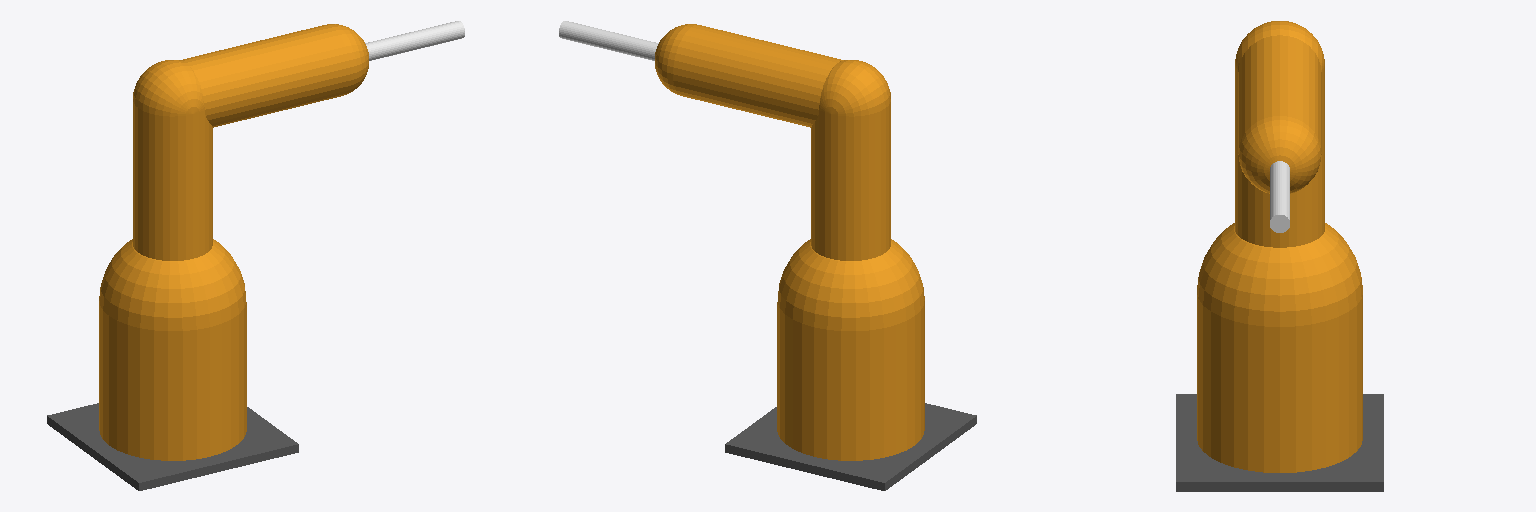
robot.urdf — linkage:
<robot name = "linkage">
	<!-- links section -->>
	<link name = "link 0">
		<visual>
			<origin xyz = "0 0 0" />
			<geometry>
				<box size = "10 10 0.5"  />
			</geometry>
			<material name = "gray A">
				<color rgba = "0.4 0.4 0.4 0.2" />
			</material>
		</visual>
	</link>
	<link name = "link 1">
		<visual>
			<origin xyz = "0 0 4" rpy = "0 0 0"/>
			<geometry>
				<cylinder radius = "4.0" length = "8"  />
			</geometry>
			<material name = "orange">
				<color rgba = "0.93 0.64 0.18 1" />
			</material>
		</visual>
		<visual>
			<origin xyz = "0 0 8" rpy = "0 0 0"/>
			<geometry>
				<sphere radius = "4" />
			</geometry>
			<material name = "orange">
				<color rgba = "0.93 0.64 0.18 1" />
			</material>
		</visual>
	</link>
	<link name = "link 2">
		<visual>
			<origin xyz = "0 -5 0" rpy = "1.5708 0 0"/>
			<geometry>
				<cylinder radius = "2.171" length = "10"  />
			</geometry>
			<material name = "orange">
				<color rgba = "0.93 0.64 0.18 1" />
			</material>
		</visual>
		<visual>
			<origin xyz = "0 -10 0" rpy = "0 0 0"/>
			<geometry>
				<sphere radius = "2.171" />
			</geometry>
			<material name = "orange">
				<color rgba = "0.93 0.64 0.18 1" />
			</material>
		</visual>
	</link>
	<link name = "link 3">
		<visual>
			<origin xyz = "0 5 0" rpy = "1.5708 0 0"/>
			<geometry>
				<cylinder radius = "2" length = "10"  />
			</geometry>
			<material name = "orange">
				<color rgba = "0.93 0.64 0.18 1" />
			</material>
		</visual>
	</link>
	<link name = "link 4">
		<visual>
			<origin xyz = "0 0 0" rpy = "0 1.5708 0"/>
			<geometry>
				<sphere radius = "2" />
			</geometry>
			<material name = "orange">
				<color rgba = "0.93 0.64 0.18 1" />
			</material>
		</visual>
	</link>
	<link name = "link 5">
		<visual>
			<origin xyz = "0 0 -4" rpy = "0 0 0"/>
			<geometry>
				<cylinder radius = "0.5" length = "8"  />
			</geometry>
			<material name = "gray A">
				<color rgba = "0.92 0.92 0.92 1" />
			</material>
		</visual>
	</link>


	<!-- joints section -->>
	<joint name = "joint 1" type = "revolute">
		<parent link = "link 0" />
		<child link = "link 1" />
		<origin xyz = "0 0 0" rpy = "0 0 0"/>
		<axis xyz = "0 0 1" />
		<limit effort="1000.0" lower="-3.1416" upper="3.1416" velocity="0.5"/>
	</joint>
	<joint name = "joint 2" type = "revolute">
		<parent link = "link 1" />
		<child link = "link 2" />
		<origin xyz = "0 0 10" rpy = "-1.5708 0 0"/>
		<axis xyz = "0 0 1" />
		<limit effort="1000.0" lower="0" upper="0.7854" velocity="0.5"/>
	</joint>
	<joint name = "joint 3" type = "revolute">
		<parent link = "link 2" />
		<child link = "link 3" />
		<origin xyz = "0 -10 0" rpy = "0 0 -1.5708"/>
		<axis xyz = "0 0 1" />
		<limit effort="1000.0" lower="-1.5708" upper="0.5236" velocity="0.5"/>
	</joint>
	<joint name = "joint 4" type = "revolute">
		<parent link = "link 3" />
		<child link = "link 4" />
		<origin xyz = "0 10 0" rpy = "0 0 1.5708"/>
		<axis xyz = "0 0 1" />
		<limit effort="1000.0" lower="-0.7854" upper="0.7854" velocity="0.5"/>
	</joint>
	<joint name = "joint 5" type = "revolute">
		<parent link = "link 4" />
		<child link = "link 5" />
		<origin xyz = "8 0 0" rpy = "1.5708 0 1.5708"/>
		<axis xyz = "0 0 1" />
		<limit effort="1000.0" lower="-1.3090" upper="1.3090" velocity="0.5"/>
	</joint>
</robot>

--- Render facts (derived) ---
3 views of the same robot in one strip: view 1: azimuth 30°, elevation 25°; view 2: azimuth 150°, elevation 25°; view 3: azimuth 270°, elevation 25° (orthographic).
Robot: linkage — 6 links, 5 joints (5 revolute); root link link 0; default pose: all joints at 0.
Visible links, largest first — view 1: link 1, link 2, link 3, link 0, link 5, link 4; view 2: link 1, link 2, link 3, link 0, link 5, link 4; view 3: link 1, link 0, link 3, link 2, link 4, link 5.
Link boxes in pixels (<box>): link 1: <box>99,239,246,460</box>; link 2: <box>133,60,212,260</box>; link 3: <box>180,25,350,127</box>; link 0: <box>47,403,298,490</box>; link 5: <box>365,21,464,60</box>; link 4: <box>327,24,368,94</box>; link 1: <box>777,239,924,460</box>; link 2: <box>811,60,890,260</box>; link 3: <box>673,25,843,127</box>; link 0: <box>725,403,976,490</box>; link 5: <box>559,21,658,60</box>; link 4: <box>655,24,696,94</box>; link 1: <box>1197,223,1362,472</box>; link 0: <box>1176,394,1383,491</box>; link 3: <box>1238,35,1321,151</box>; link 2: <box>1235,21,1324,247</box>; link 4: <box>1238,116,1321,193</box>; link 5: <box>1270,161,1289,232</box>.
Bounding box of the posed robot: 23 × 10 × 22.42 m (x, y, z).
Geometry: primitives only (box / cylinder / sphere), no mesh files.